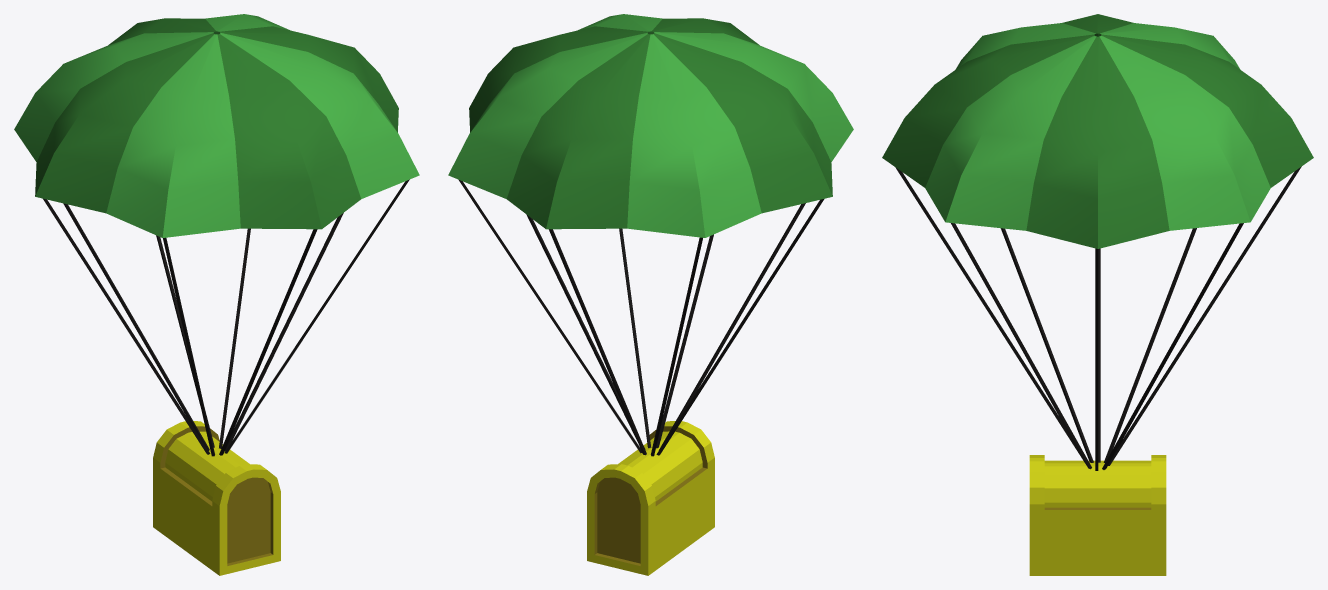
The model's file is gold_airdrop.fbx.
The picture shows the model from 3 angles, left to right: view 1: azimuth 30°, elevation 25°; view 2: azimuth 150°, elevation 25°; view 3: azimuth 270°, elevation 25°; orthographic projection. The views are drawn at different scales.
Visible parts, largest first — view 1: gold_airdrop; view 2: gold_airdrop; view 3: gold_airdrop.
Boxes of the visible parts, left/top/right/bottom form: gold_airdrop: left=14, top=14, right=419, bottom=575; gold_airdrop: left=448, top=14, right=853, bottom=575; gold_airdrop: left=882, top=14, right=1313, bottom=575.
Size of the model in its own units: 15.71 by 21.09 by 15.71.
